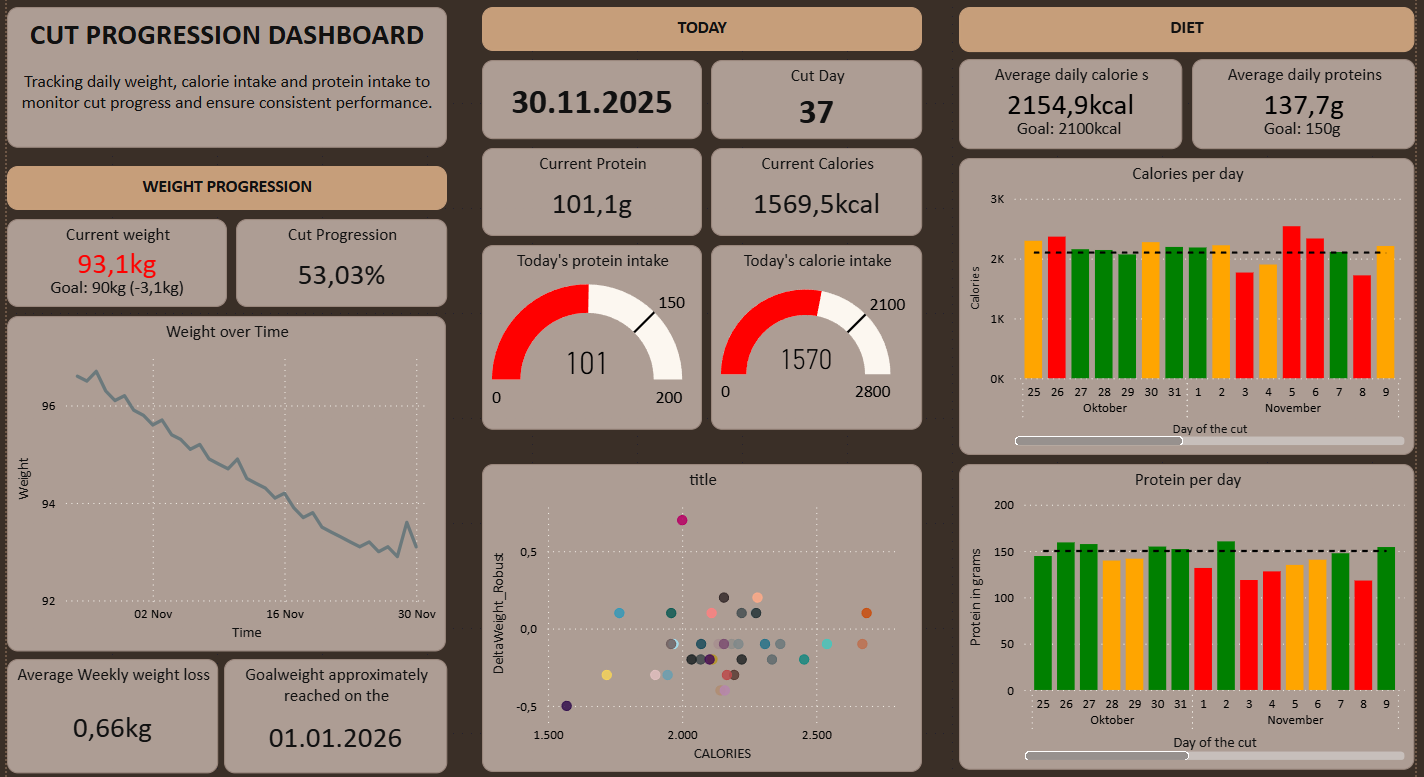

Layout of this report page (visuals, bound fields, positions):
{"tool":"powerbi","page":{"name":"Seite 1","canvas":[1280,720],"ordinal":0},"visuals":[{"type":"textbox","box":[432,8,400,40],"z":0,"group":"g6"},{"type":"textbox","box":[865.5,8.2,414.4,40.9],"z":0,"group":"g2"},{"type":"textbox","box":[0,152.7,400,40],"z":0,"group":"g1"},{"type":"lineChart","title":"Weight over Time","fields":{"Y":["Avg(TrackedDaysRange.WEIGHT)"],"Category":["TrackedDaysRange.DATE.Variation.Datumshierarchie.Jahr","TrackedDaysRange.DATE.Variation.Datumshierarchie.Quartal","TrackedDaysRange.DATE.Variation.Datumshierarchie.Monat","TrackedDaysRange.DATE.Variation.Datumshierarchie.Tag"]},"box":[0,288.7,399,304.6],"z":0,"group":"g4"},{"type":"scatterChart","title":"title","fields":{"X":["Tracked Days.CALORIES"],"Y":["Tracked Days.DeltaWeight"],"Series":["Tracked Days.DATE"]},"box":[432,424,400,280],"z":0},{"type":"textbox","box":[0,8,400,128],"z":1000},{"type":"card","fields":{"Values":["Tracked Days.TodaysDate"]},"box":[432,56,200,72],"z":1000,"group":"g7"},{"type":"group","id":"g1","title":"Group 3","box":[0,152.7,400,552],"z":2000},{"type":"group","id":"g2","title":"Group 4","box":[865.5,8.2,414.5,694.5],"z":3000},{"type":"group","id":"g3","title":"Group 7","box":[432,8,400,384],"z":4000},{"type":"group","id":"g4","title":"Group 1","box":[0,288.7,400,416],"z":4001,"group":"g1"},{"type":"card","title":"Current Protein","fields":{"Values":["Tracked Days.CurrentProtein"]},"box":[432,136,200,80],"z":6000,"group":"g6"},{"type":"card","title":"Current Calories","fields":{"Values":["Tracked Days.CurrentCalories"]},"box":[640,136,192,80],"z":7000,"group":"g6"},{"type":"gauge","title":"Today''s calorie intake","fields":{"Y":["Tracked Days.CurrentCalories"],"TargetValue":["Max(Goals.GOAL CALORIES)"],"MaxValue":["Goals.CalorieCeiling"]},"box":[640,224,192,168],"z":8000,"group":"g6"},{"type":"gauge","title":"Today''s protein intake","fields":{"Y":["Tracked Days.CurrentProtein"],"MaxValue":["Goals.ProteinCeiling"],"TargetValue":["Max(Goals.GOAL PROTEIN)"]},"box":[432,224,200,168],"z":9000,"group":"g6"},{"type":"card","title":"Cut Day","fields":{"Values":["Tracked Days.CutDay"]},"box":[640,56,192,72],"z":10000,"group":"g7"},{"type":"card","title":"Goalweight approximately reached on the","fields":{"Values":["Tracked Days.GoalReachedDayCompact"]},"box":[197.1,600.7,202.9,104],"z":12000,"group":"g4"},{"type":"kpi","title":"Current weight","fields":{"Goal":["Sum(Goals.GOAL WEIGHT)"],"TrendLine":["Tracked Days.DATE"],"Indicator":["Tracked Days.CurrentWeight"]},"box":[0,200.7,200,80],"z":13000,"group":"g1"},{"type":"group","id":"g5","title":"Group 2","box":[865.5,55.9,414.5,646.9],"z":14000,"group":"g2"},{"type":"kpi","title":"Average daily calorie s","fields":{"Indicator":["Calculations.AVGCaloriesPerDay"],"Goal":["Max(Goals.GOAL CALORIES)"],"TrendLine":["Tracked Days.DATE"]},"box":[865.6,55.9,203.1,81.9],"z":14000,"group":"g5"},{"type":"kpi","title":"Average daily proteins","fields":{"Indicator":["Calculations.AVGProteinPerDay"],"Goal":["Max(Goals.GOAL PROTEIN)"],"TrendLine":["Tracked Days.DATE"]},"box":[1076.9,55.9,203.1,81.9],"z":15000,"group":"g5"},{"type":"group","id":"g6","title":"Group 5","box":[432,8,400,384],"z":15003,"group":"g7"},{"type":"group","id":"g7","title":"Group 6","box":[432,8,400,384],"z":15004,"group":"g3"},{"type":"card","title":"Cut Progression","fields":{"Values":["Tracked Days.WeightProgressPercent"]},"box":[208,200.7,192,80],"z":16000,"group":"g1"},{"type":"lineStackedColumnComboChart","title":"Calories per day","fields":{"Category":["Tracked Days.DATE.Variation.Datumshierarchie.Monat","Tracked Days.DATE.Variation.Datumshierarchie.Tag"],"Y":["Max(Tracked Days.CALORIES)"],"Y2":["Max(Goals.GOAL CALORIES)"]},"box":[865.5,146,414.4,270.2],"z":17000,"group":"g5"},{"type":"lineStackedColumnComboChart","title":"Protein per day","fields":{"Category":["Tracked Days.DATE.Variation.Datumshierarchie.Monat","Tracked Days.DATE.Variation.Datumshierarchie.Tag"],"Y":["Sum(Tracked Days.PROTEIN)"],"Y2":["Max(Goals.GOAL PROTEIN)"]},"box":[865.5,424.4,414.4,278.4],"z":18000,"group":"g5"},{"type":"card","title":"Average Weekly weight loss","fields":{"Values":["Tracked Days.WeeklyLossRate"]},"box":[0,600.7,192,104],"z":19000,"group":"g1"}]}

Visuals, with their boxes in screenshot pixels (x1, y1, x2, y2):
textbox: locate(478, 1, 920, 46)
textbox: locate(957, 2, 1415, 47)
textbox: locate(0, 161, 442, 206)
"Weight over Time" lineChart: locate(0, 312, 441, 649)
"title" scatterChart: locate(478, 461, 920, 771)
textbox: locate(0, 1, 442, 143)
card - Tracked Days.TodaysDate: locate(478, 55, 699, 134)
"Group 3" group: locate(0, 161, 442, 772)
"Group 4" group: locate(957, 2, 1415, 770)
"Group 7" group: locate(478, 1, 920, 426)
"Group 1" group: locate(0, 312, 442, 772)
"Current Protein" card: locate(478, 143, 699, 231)
"Current Calories" card: locate(708, 143, 920, 231)
"Today''s calorie intake" gauge: locate(708, 240, 920, 426)
"Today''s protein intake" gauge: locate(478, 240, 699, 426)
"Cut Day" card: locate(708, 55, 920, 134)
"Goalweight approximately reached on the" card: locate(218, 657, 442, 772)
"Current weight" kpi: locate(0, 215, 221, 303)
"Group 2" group: locate(957, 54, 1415, 770)
"Average daily calorie s" kpi: locate(957, 54, 1182, 145)
"Average daily proteins" kpi: locate(1191, 54, 1415, 145)
"Group 5" group: locate(478, 1, 920, 426)
"Group 6" group: locate(478, 1, 920, 426)
"Cut Progression" card: locate(230, 215, 442, 303)
"Calories per day" lineStackedColumnComboChart: locate(957, 154, 1415, 453)
"Protein per day" lineStackedColumnComboChart: locate(957, 462, 1415, 770)
"Average Weekly weight loss" card: locate(0, 657, 212, 772)
